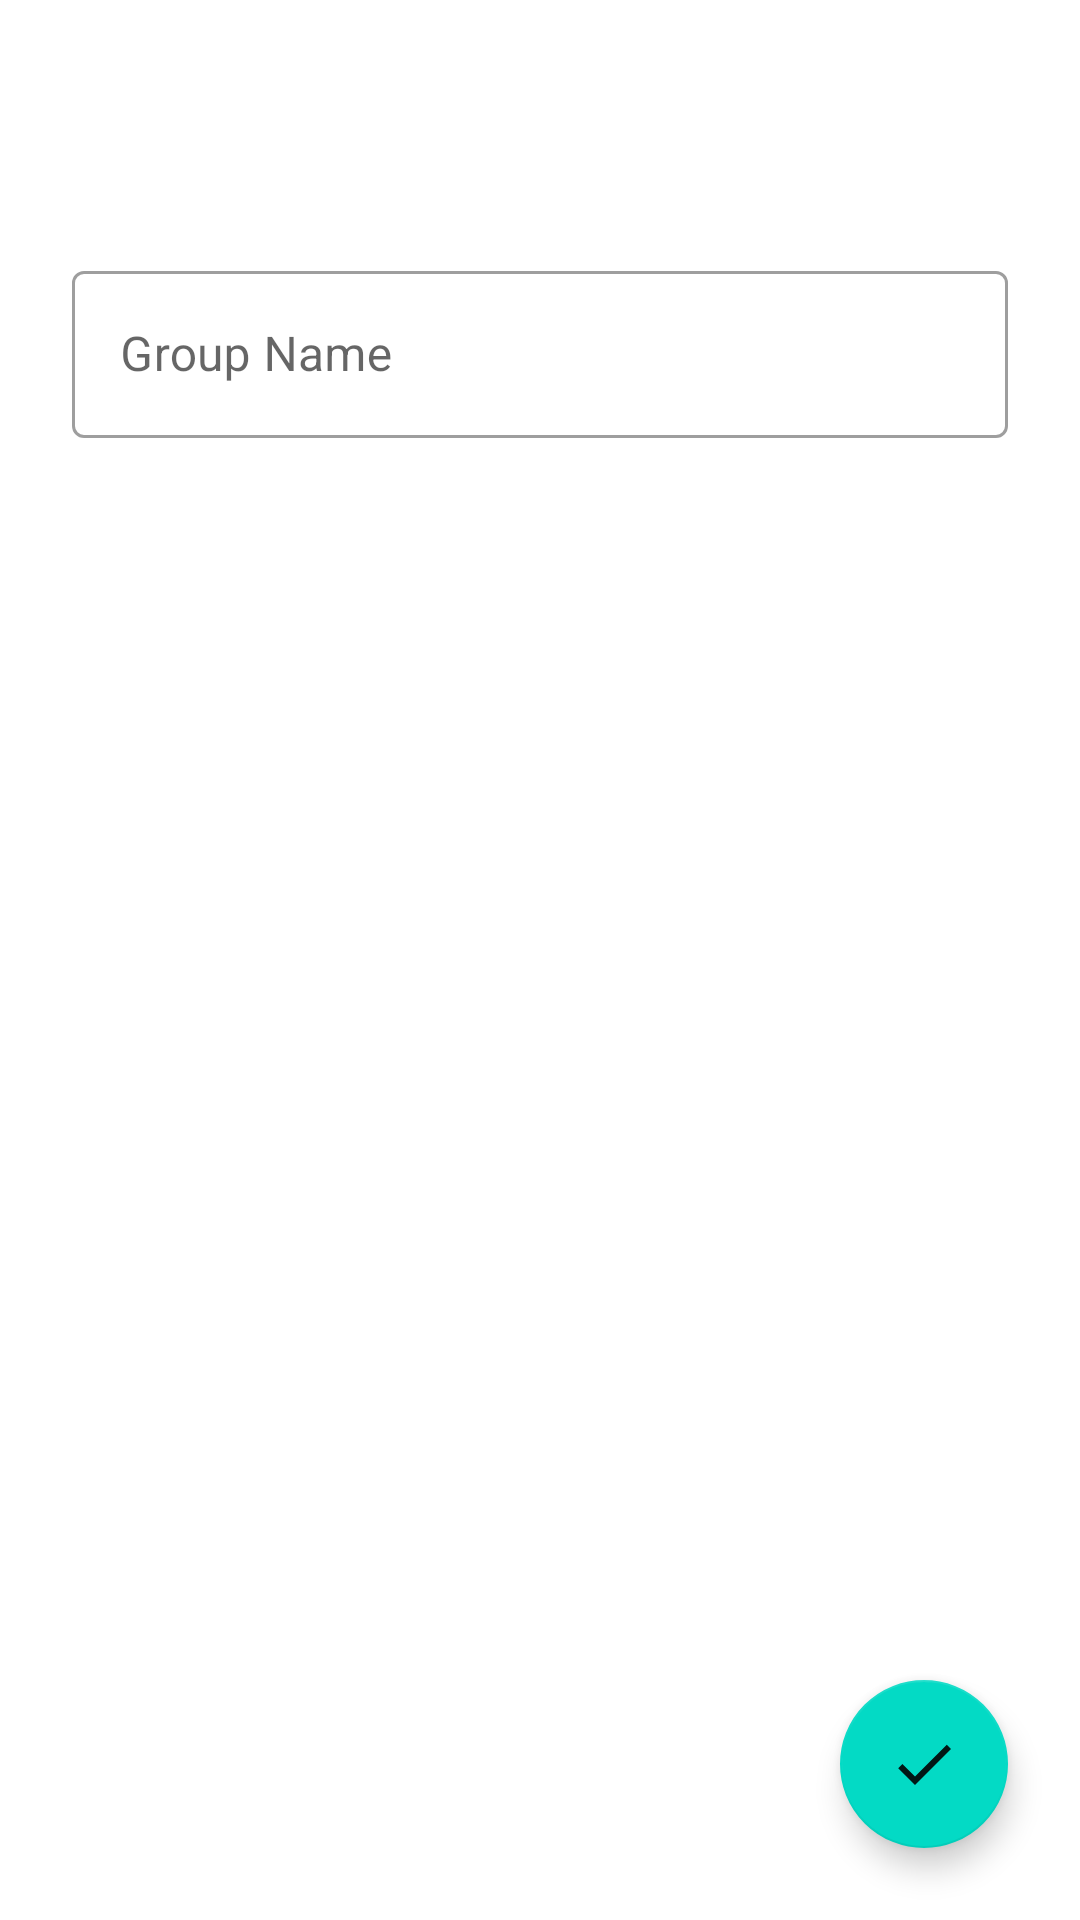

Icon bounding boxes for this 1080*1920 phone screenshot, format (x1, y1, x2, y2):
Proceed To Create Group: (840, 1680, 1008, 1848)
